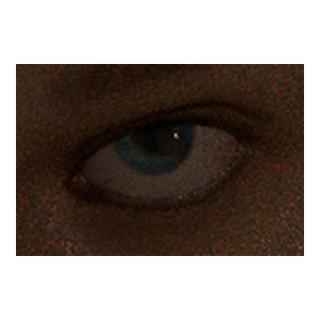pupil: (137, 117, 171, 151)
